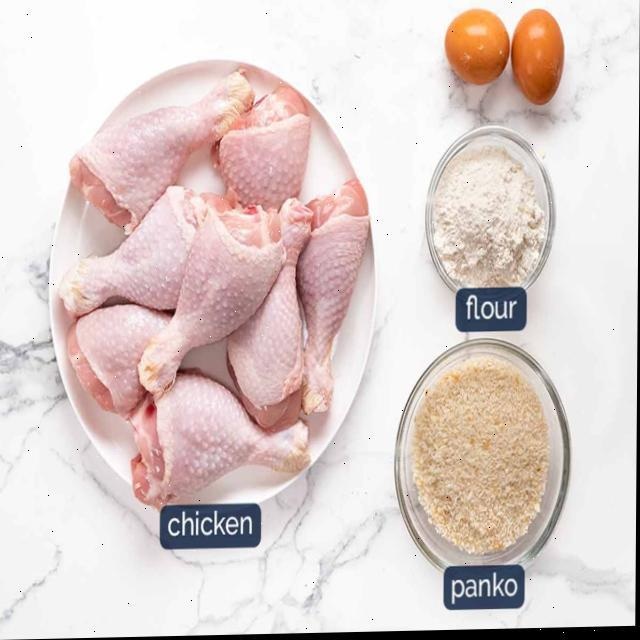leg: (55, 68, 256, 220), (147, 198, 283, 399), (134, 374, 312, 516), (52, 186, 215, 317), (224, 200, 314, 436), (298, 180, 371, 422), (64, 304, 190, 423), (218, 92, 314, 217)
